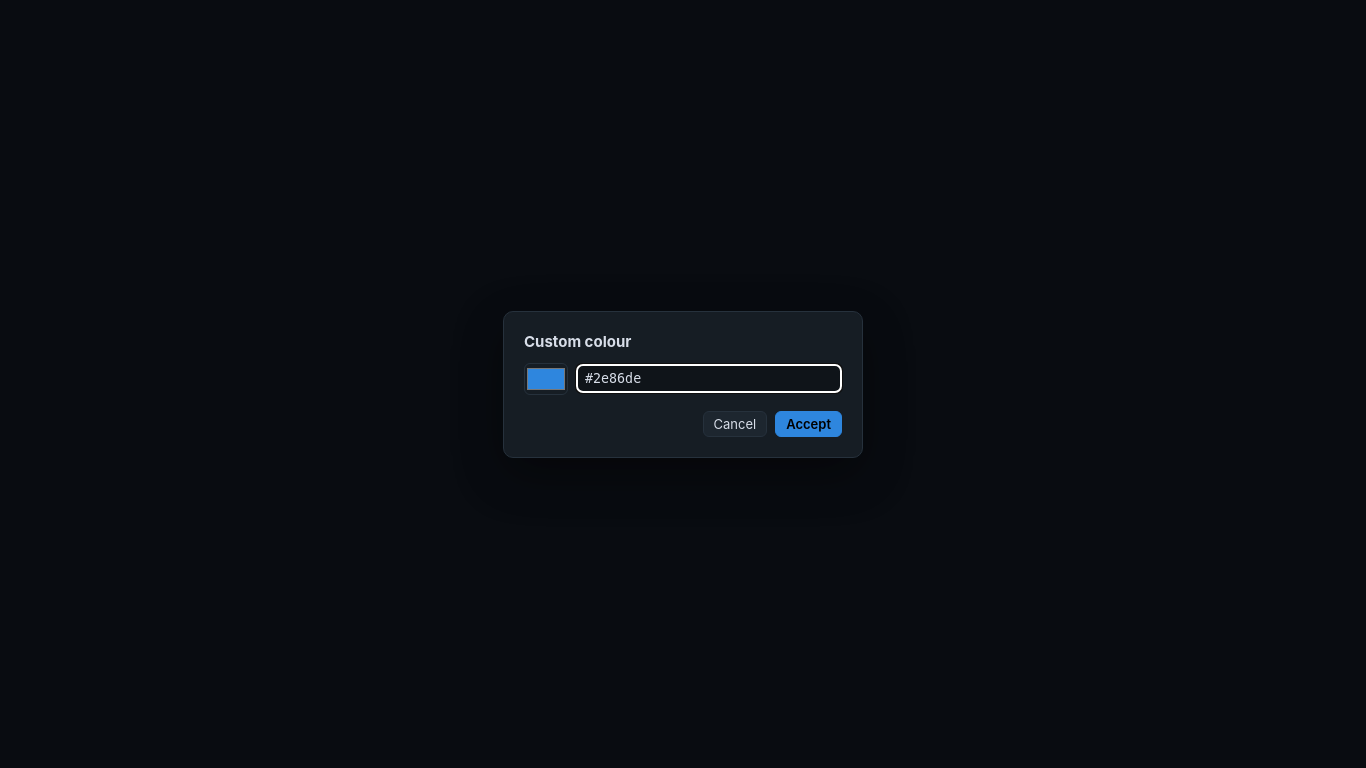
Test case: custom colour › takes the system picker's colour
In the colour field named "Choose a colour": (546, 378) 524,362 -> 568,394, type "#123456"
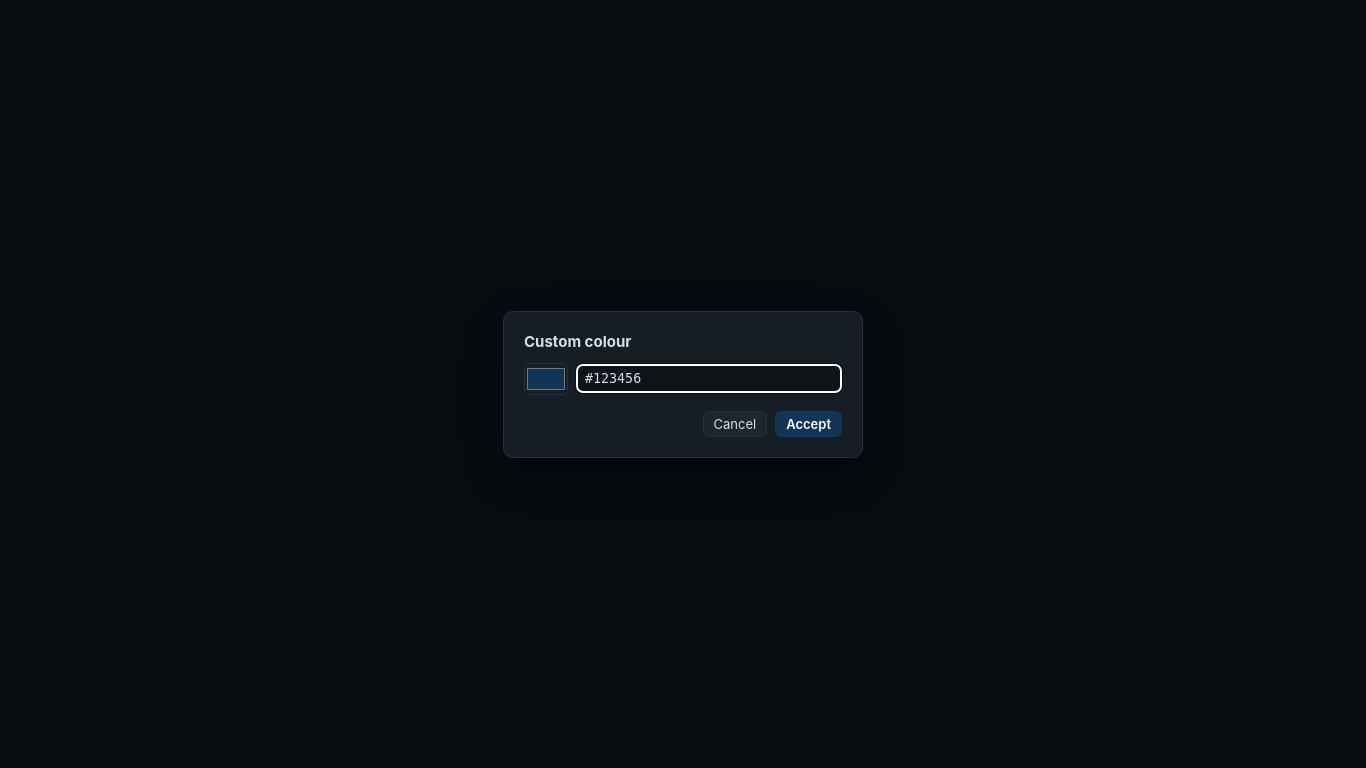
expect the field named "Colour code" holds "#123456": met, box 576,364 -> 842,393
